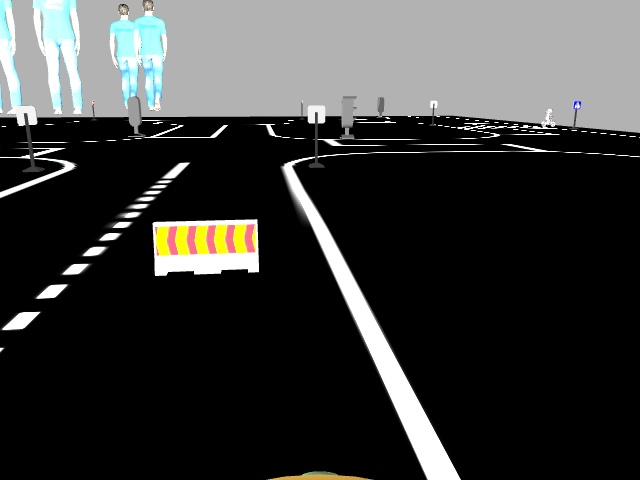ClosedRoadStand: (153, 222, 257, 269)
